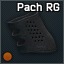Glock Pachmayr tactical rubber grip: (0, 0, 64, 64)
